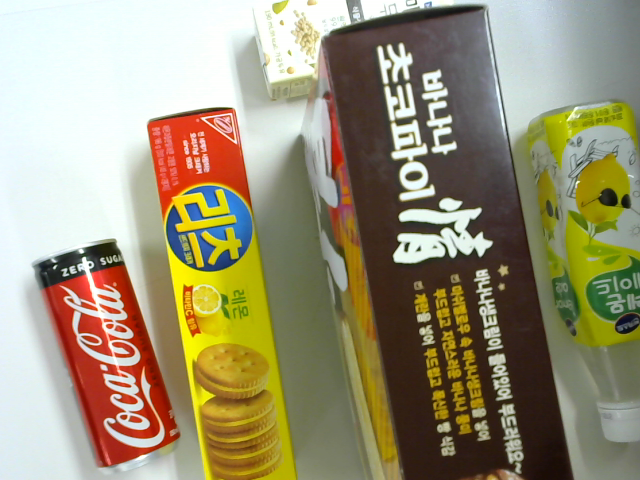99.89_Soymilk: (242, 1, 461, 106)
Choco_Pie_Banana: (304, 3, 584, 480)
Coca_Cola_Zero_Can_250ml: (27, 228, 188, 480)
Ritz_Remon_96g: (140, 100, 310, 480)
Sunkist_Lemonaid_Pet: (518, 88, 640, 449)
